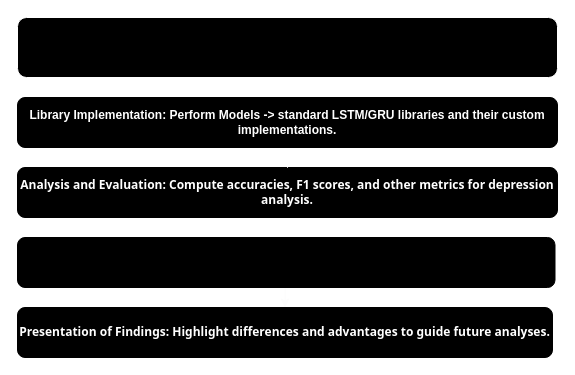
This 575x375 diagram has some shape labels left out. Here are the shapes that lost their labels. From the top down, the centre of each, then its label:
At (x=287, y=47): "Data Preprocessing: Prepare dataset for Analysis".
At (x=285, y=262): "Comparison: Thoroughly compare results from standard and custom implementations.".
